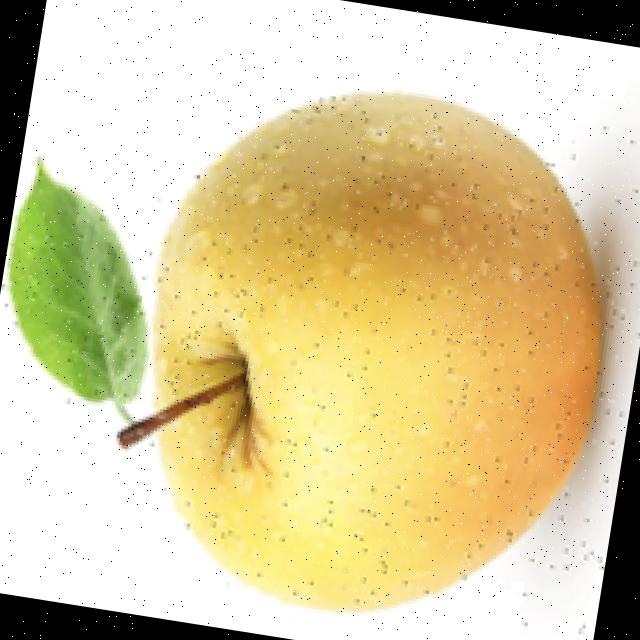apple: (0, 88, 640, 618)
